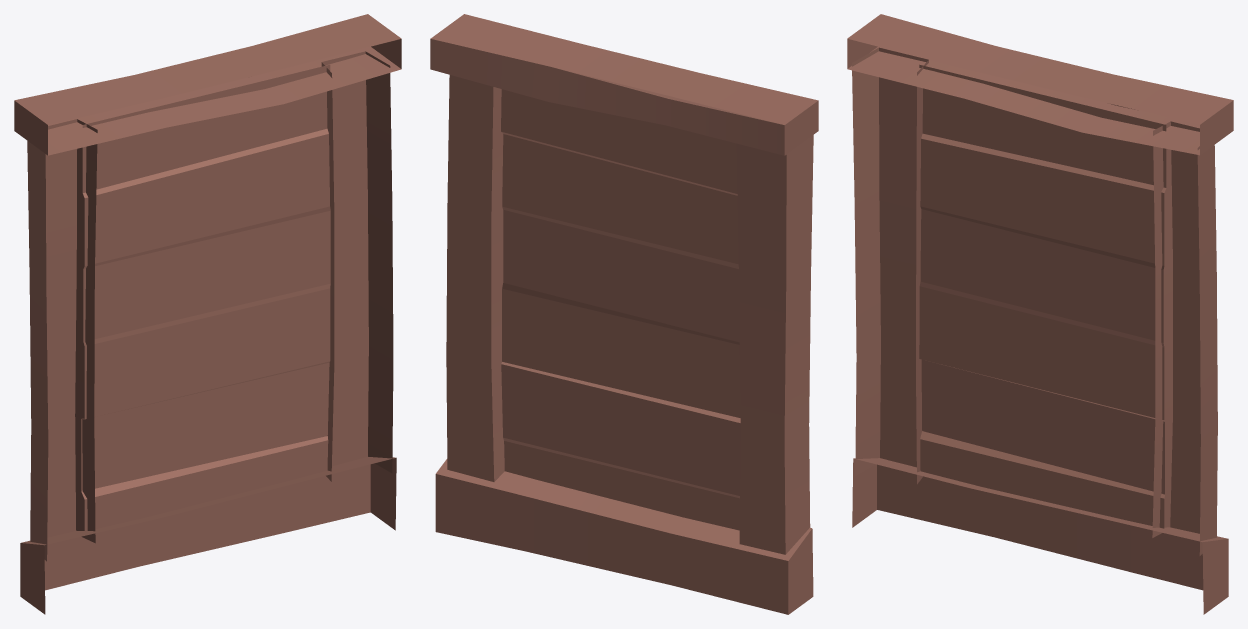
Rendered from Wooden_Wall.fbx.
3 views of the same model, side by side, from view 1: azimuth 30°, elevation 25°; view 2: azimuth 150°, elevation 25°; view 3: azimuth 330°, elevation 25° (orthographic).
Visible parts, largest first — view 1: WoodenWall.Mesh; view 2: WoodenWall.Mesh; view 3: WoodenWall.Mesh.
Part boxes in pixels (x1,y1,x2,y2): WoodenWall.Mesh: (14,14,401,614); WoodenWall.Mesh: (430,14,818,614); WoodenWall.Mesh: (847,14,1233,614).
Bounding box in the file's own units: 2.42 × 3.23 × 0.4.
